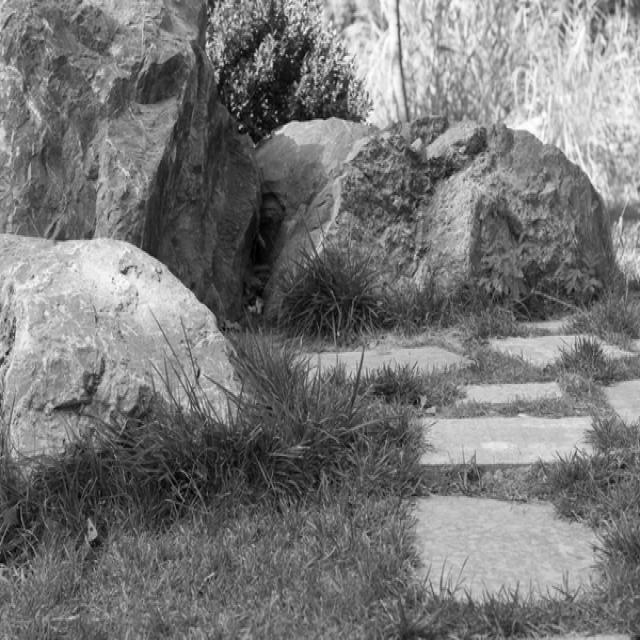Stone: (0, 1, 260, 317), (256, 115, 611, 321), (0, 234, 243, 456)
